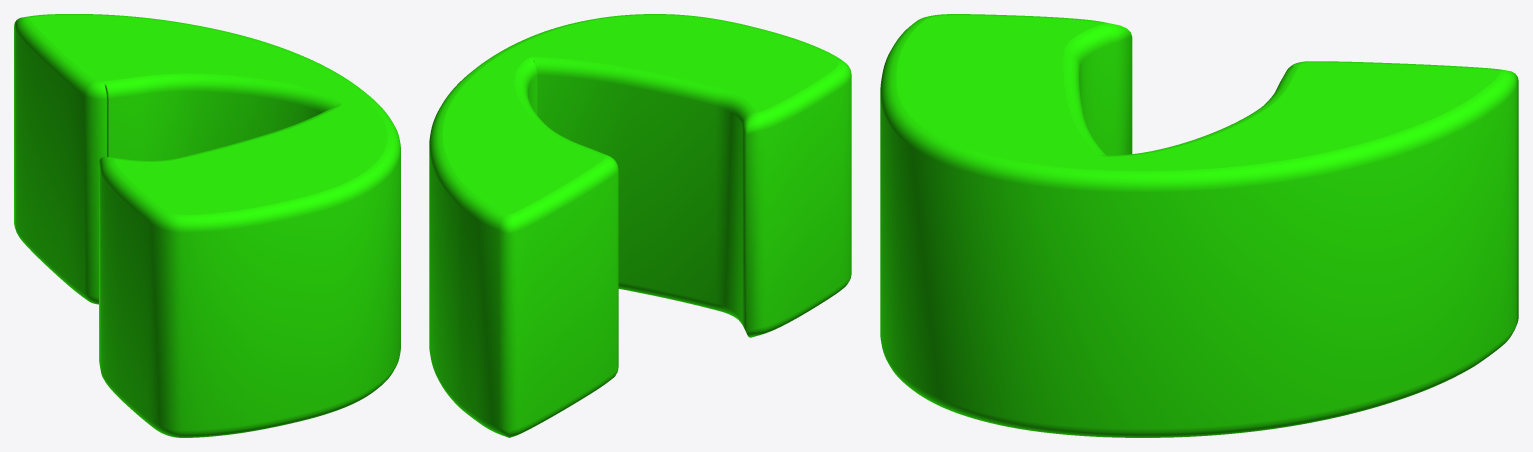
The model's file is 8 dal 1.fbx.
The picture shows the model from 3 angles, left to right: view 1: azimuth 30°, elevation 25°; view 2: azimuth 150°, elevation 25°; view 3: azimuth 270°, elevation 25°; orthographic projection. The views are drawn at different scales.
Parts seen in each view (by area): view 1: Text.138; view 2: Text.138; view 3: Text.138.
Part boxes in pixels (x1,y1,x2,y2): Text.138: [14, 14, 400, 437]; Text.138: [429, 14, 851, 437]; Text.138: [880, 14, 1518, 437].
Bounding box in the file's own units: 24.62 × 18 × 39.23.
